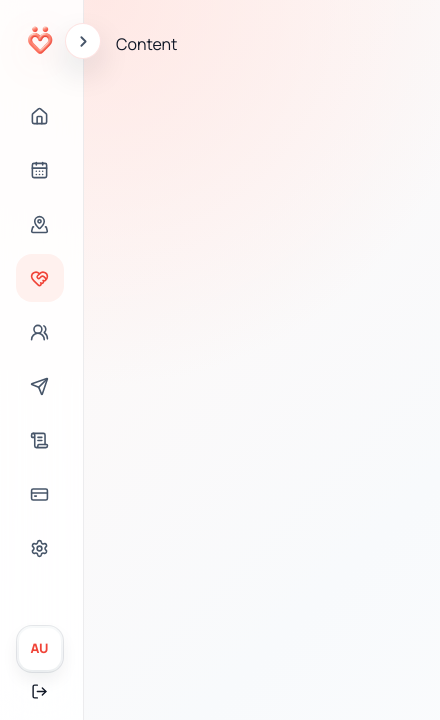
Scenario: AdminShell › hides the team section from managers
Click the button named "Открыть меню" at {"x": 83, "y": 41}, box [65,23,101,59]
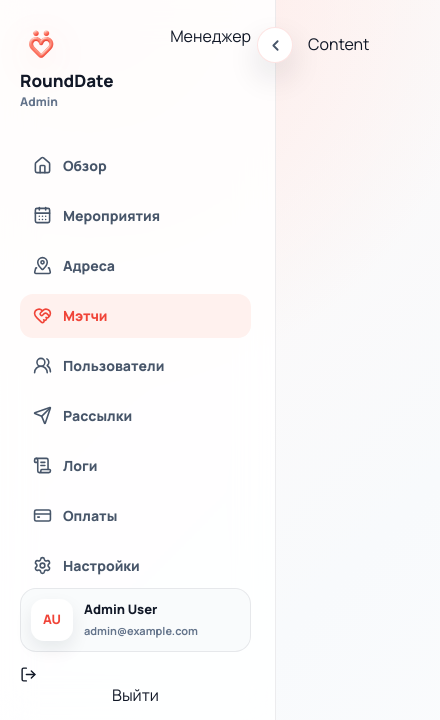
Now the text "Менеджер" is shown, box [170,25,251,47]
